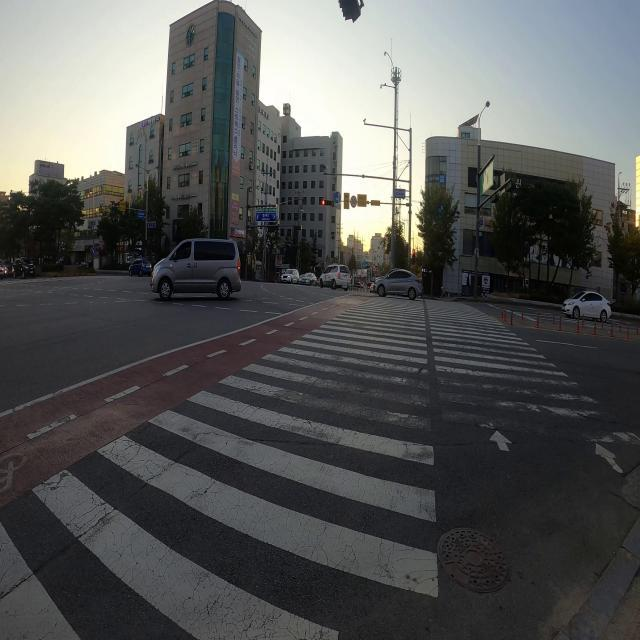crosswalk: (0, 293, 640, 640)
